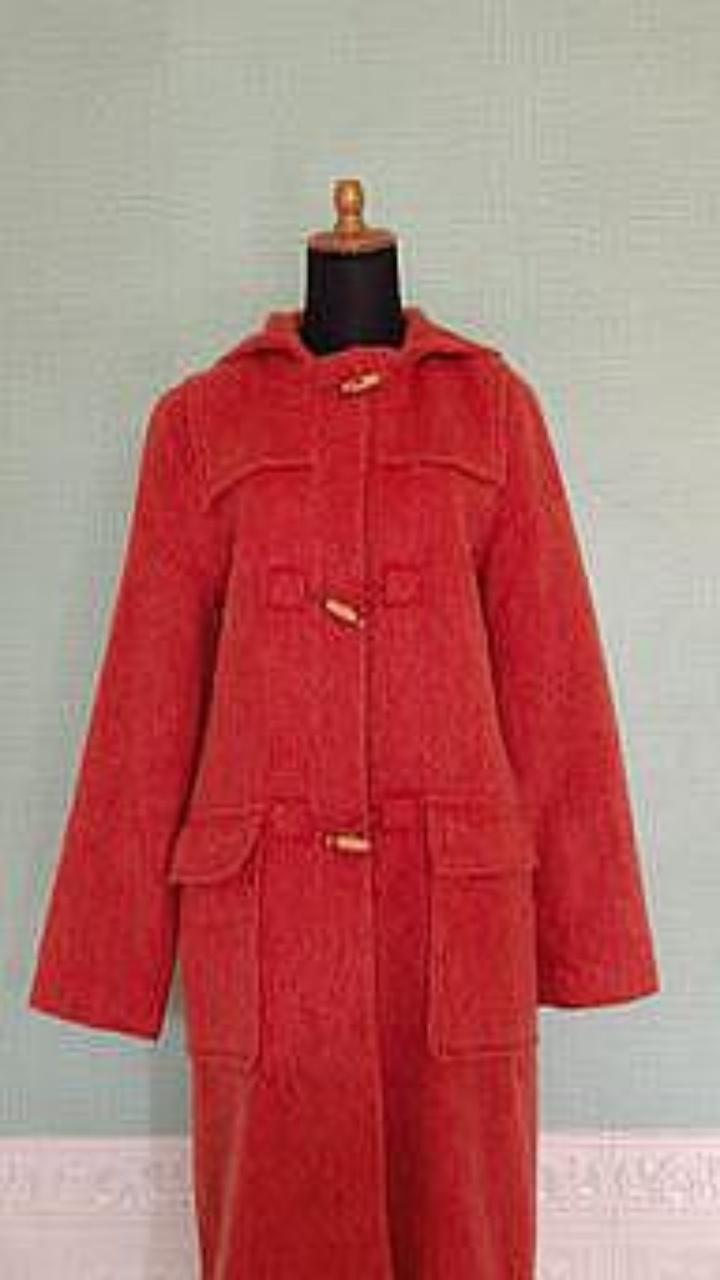Coat: (30, 307, 658, 1279)
